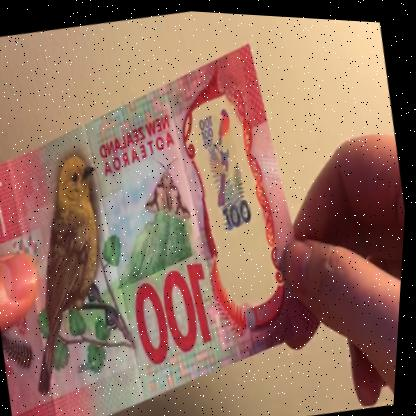100B: (190, 97, 272, 277)
